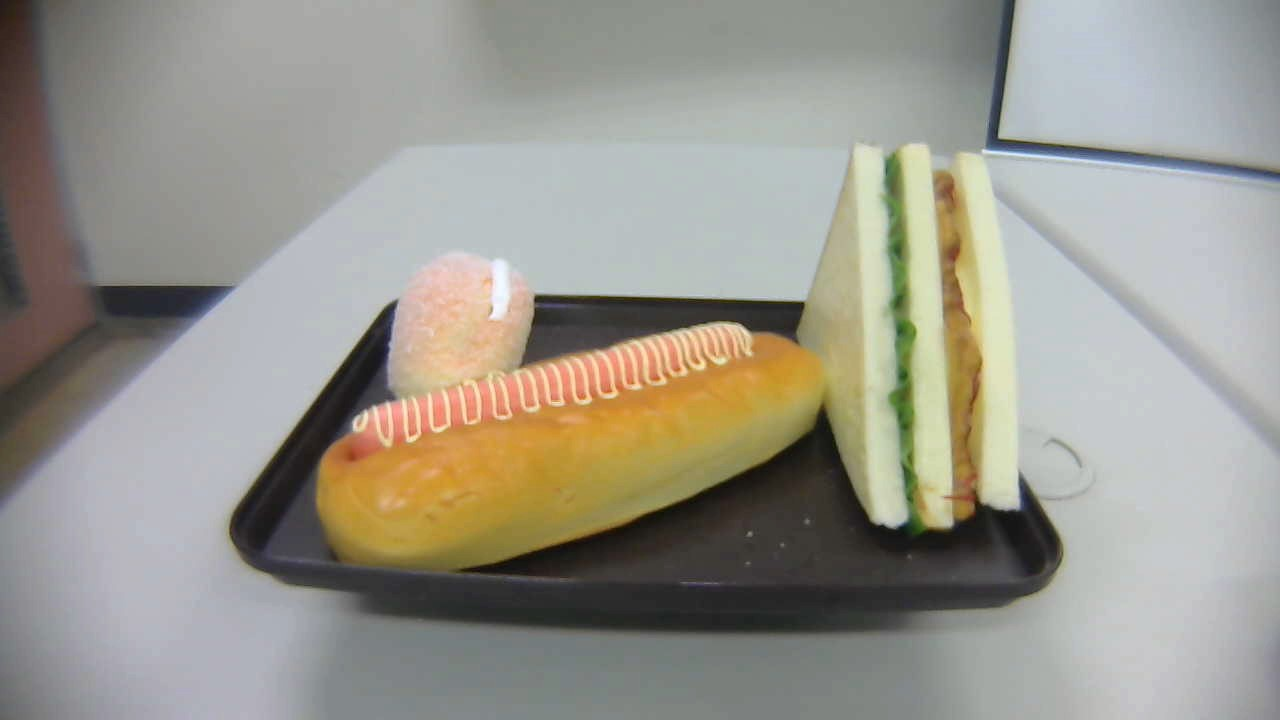coconut: (389, 251, 536, 408)
hot dog: (317, 320, 825, 579)
sandwich: (796, 144, 1023, 536)
